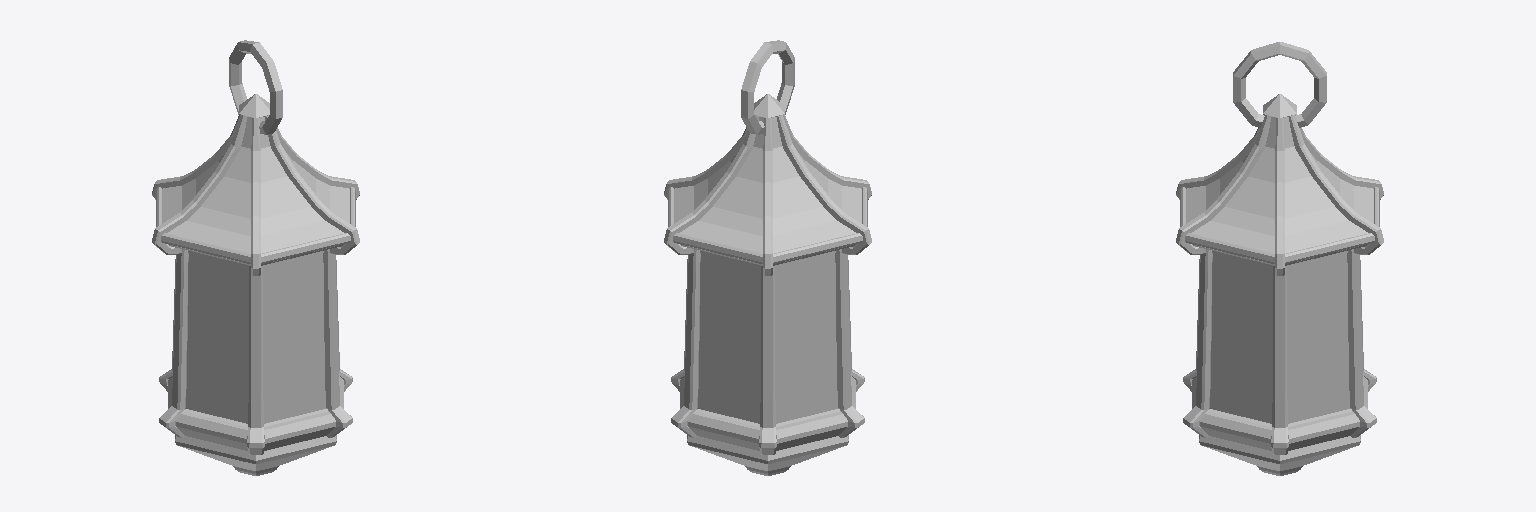
File: lantern.obj
3 renders of one model, left to right at view 1: azimuth 30°, elevation 25°; view 2: azimuth 150°, elevation 25°; view 3: azimuth 270°, elevation 25°, orthographic.
Parts seen in each view (by area): view 1: lantern3 Hall; view 2: lantern3 Hall; view 3: lantern3 Hall.
Boxes of the visible parts, box(x1,y1,x2,y2) form: lantern3 Hall: box(152, 40, 359, 475); lantern3 Hall: box(664, 40, 871, 475); lantern3 Hall: box(1176, 42, 1383, 475).
Size of the model in its own units: 2.15 by 4.25 by 1.89.